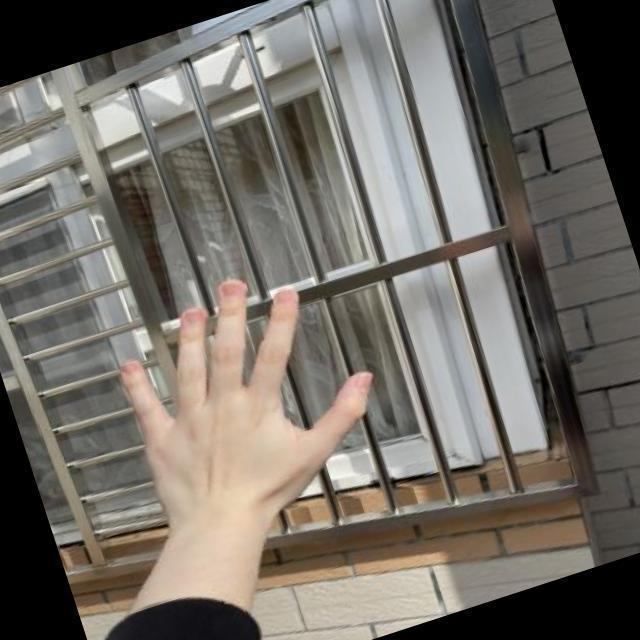hand: (86, 233, 422, 563)
